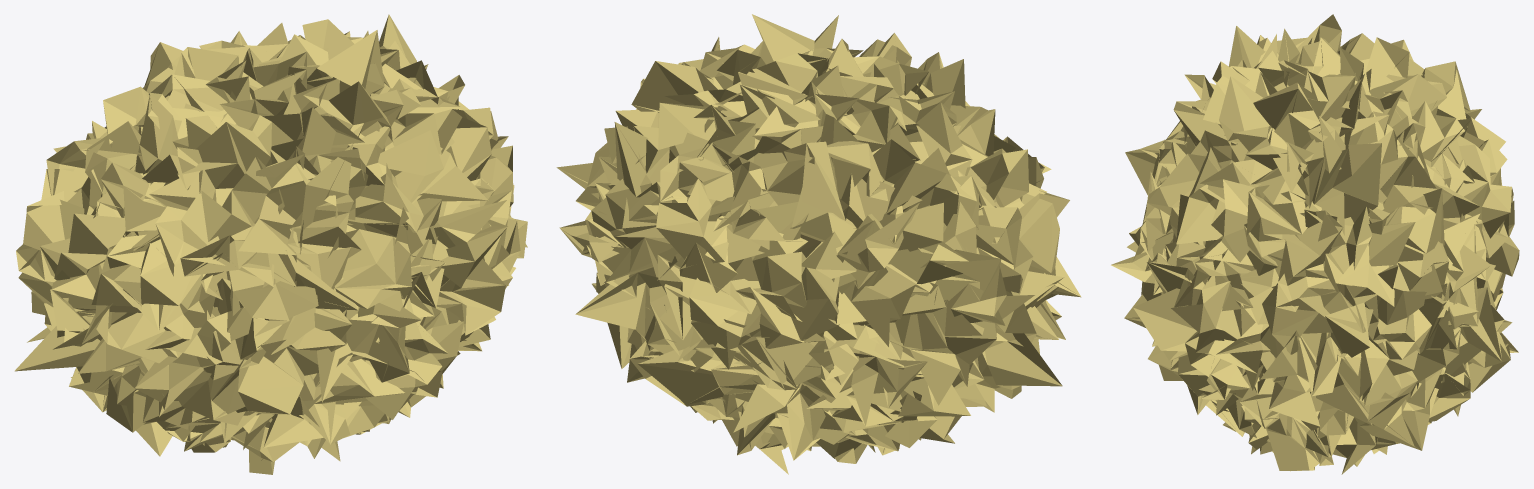
Rendered from stones.glb.
The picture shows the model from 3 angles, left to right: view 1: azimuth 30°, elevation 25°; view 2: azimuth 150°, elevation 25°; view 3: azimuth 270°, elevation 25°; orthographic projection. The views are drawn at different scales.
Visible parts, largest first — view 1: geometry_0; view 2: geometry_0; view 3: geometry_0.
Boxes of the visible parts, x1=… form: geometry_0: x1=14, y1=14, x2=527, y2=474; geometry_0: x1=556, y1=14, x2=1081, y2=474; geometry_0: x1=1111, y1=14, x2=1519, y2=474.
Size of the model in its own units: 18.03 by 14.12 by 13.05.
